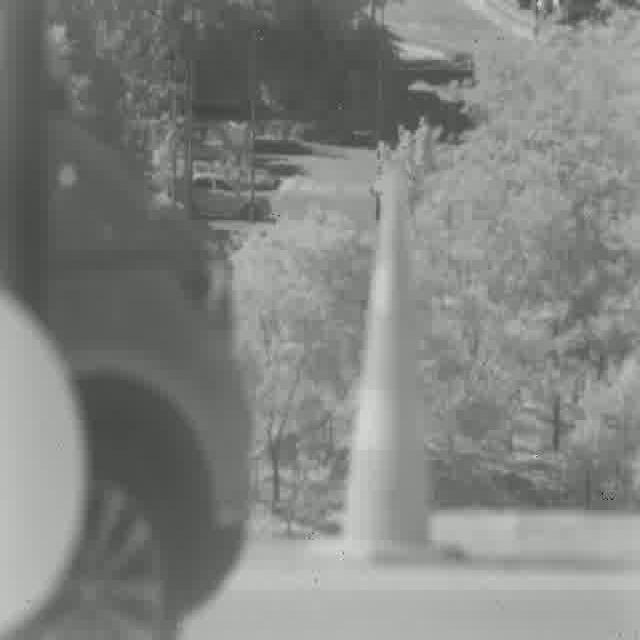Car: (46, 117, 255, 640)
